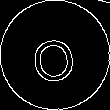O_N: (29, 26, 81, 84)
